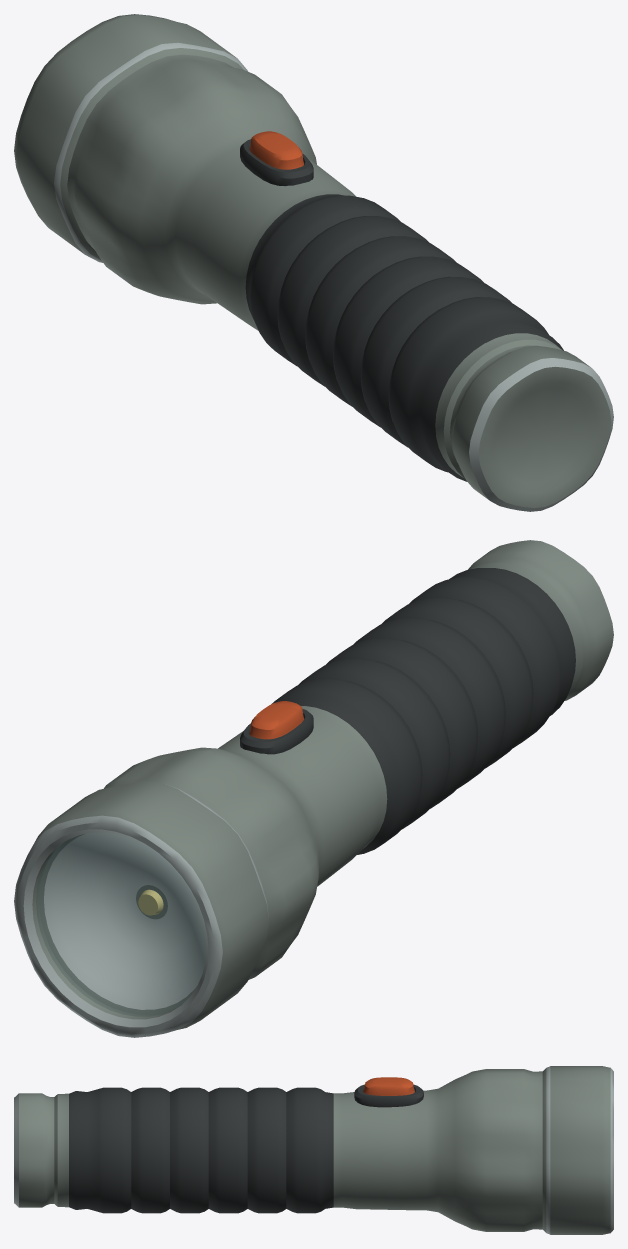
The model's file is flashlight.glb.
3 renders of one model, top to bottom at view 1: azimuth 30°, elevation 25°; view 2: azimuth 150°, elevation 25°; view 3: azimuth 270°, elevation 25°, orthographic. The views are drawn at different scales.
Visible parts, largest first — view 1: SM_Housing, SM_SideSwitch; view 2: SM_Housing, SM_Lens, SM_SideSwitch; view 3: SM_Housing, SM_SideSwitch.
Part boxes in pixels (box(x1,y1,x2,y2)): SM_Housing: box(14, 14, 613, 511); SM_SideSwitch: box(240, 131, 313, 186); SM_Housing: box(14, 540, 613, 1037); SM_Lens: box(36, 833, 206, 1016); SM_SideSwitch: box(240, 701, 313, 754); SM_Housing: box(14, 1066, 613, 1234); SM_SideSwitch: box(354, 1077, 423, 1107).
Size of the model in its own units: 0.0493 by 0.0493 by 0.17.
